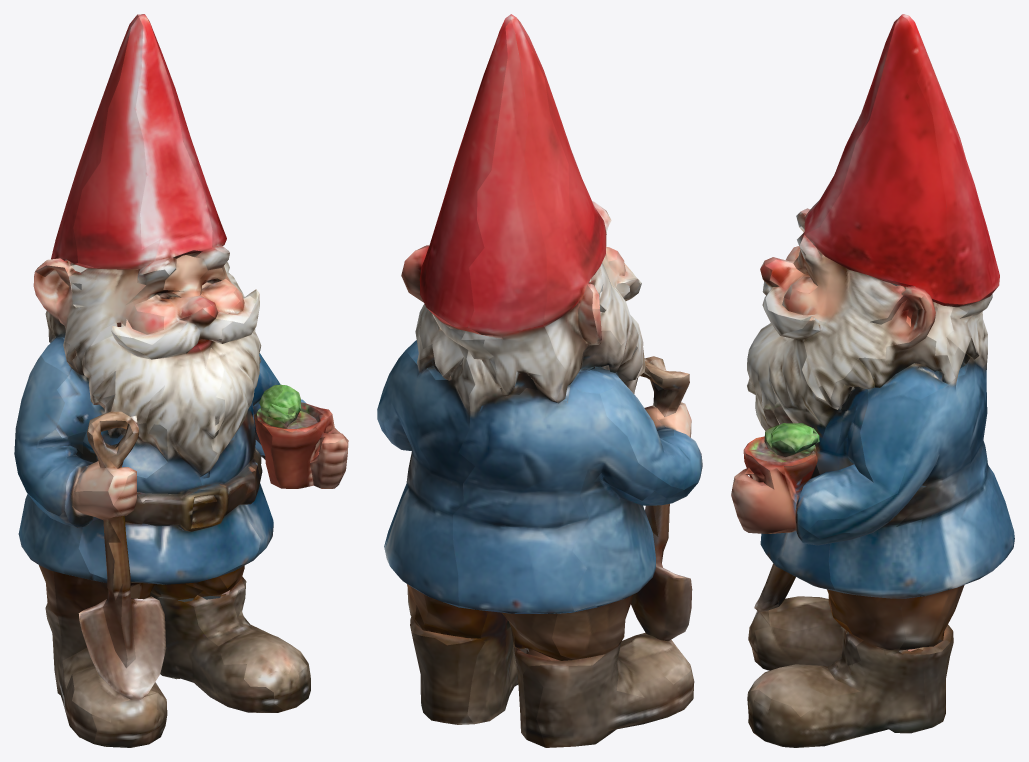
Rendered from gnome.glb.
3 views of the same model, side by side, from view 1: azimuth 30°, elevation 25°; view 2: azimuth 150°, elevation 25°; view 3: azimuth 270°, elevation 25° (orthographic). The views are drawn at different scales.
Visible parts, largest first — view 1: geometry_0; view 2: geometry_0; view 3: geometry_0.
Boxes of the visible parts, left/top/right/bottom form: geometry_0: left=14, top=14, right=348, bottom=747; geometry_0: left=377, top=14, right=702, bottom=747; geometry_0: left=731, top=14, right=1014, bottom=747.
Size of the model in its own units: 0.1557 by 0.35 by 0.1322.
Materials: 1 (1 with a texture image).
